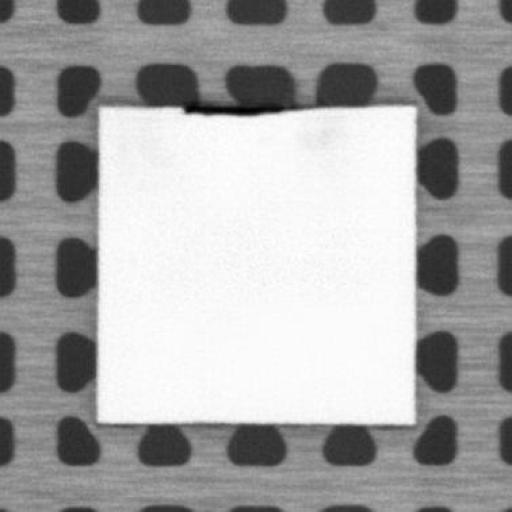DIE_BROKEN: (179, 100, 291, 116)
